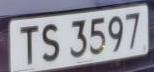3: (67, 12, 91, 64)
5: (88, 10, 108, 61)
7: (124, 9, 144, 55)
9: (106, 10, 126, 57)
S: (39, 15, 62, 67)
T: (18, 19, 42, 70)
